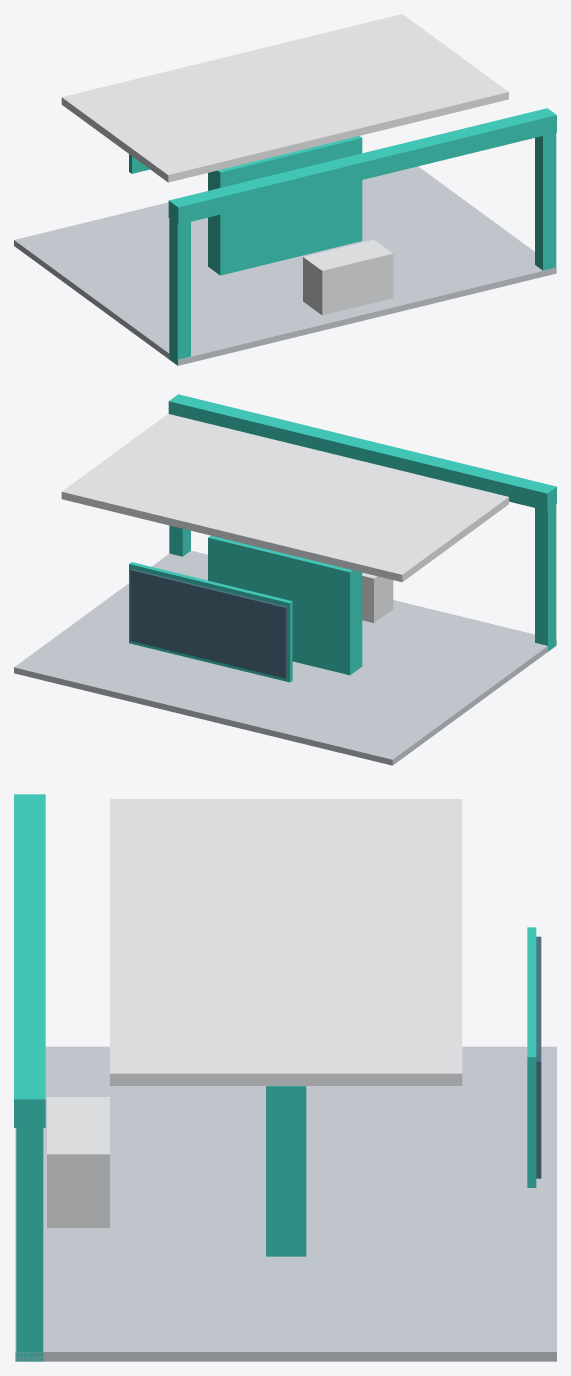
3 renders of one model, top to bottom at view 1: azimuth 30°, elevation 25°; view 2: azimuth 150°, elevation 25°; view 3: azimuth 270°, elevation 25°, orthographic. The views are drawn at different scales.
Visible parts, largest first — view 1: Exhibition Booth Concept; view 2: Exhibition Booth Concept; view 3: Exhibition Booth Concept.
Boxes of the visible parts, x1,y1,x2,y2 form: Exhibition Booth Concept: (14, 14, 556, 365); Exhibition Booth Concept: (14, 394, 556, 765); Exhibition Booth Concept: (14, 794, 556, 1361).
Bounding box in the file's own units: 8 × 3.34 × 6.02.
